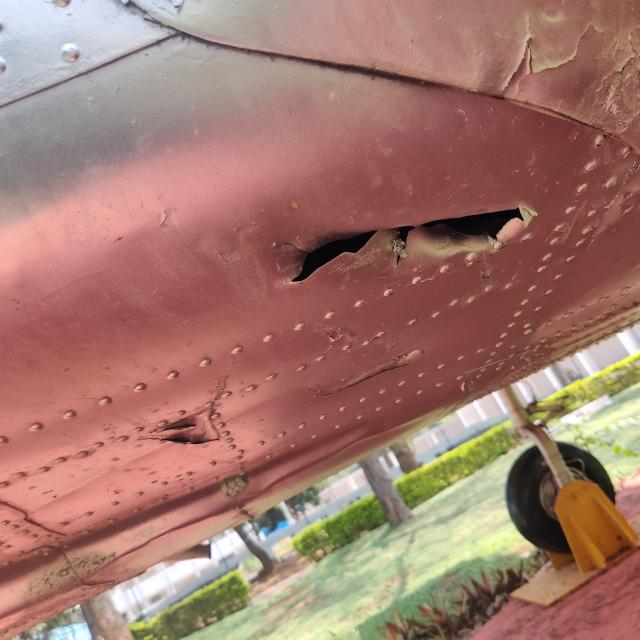crack: (267, 177, 546, 291)
paint-off: (153, 401, 225, 459)
